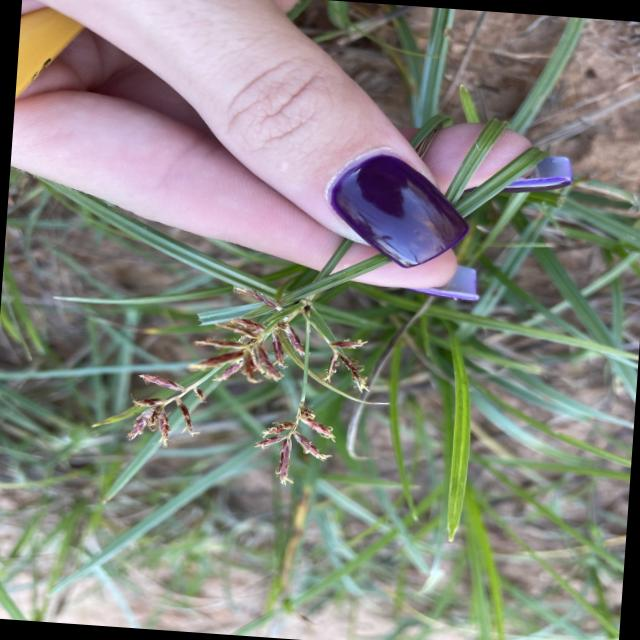cyperus: (90, 250, 390, 492)
